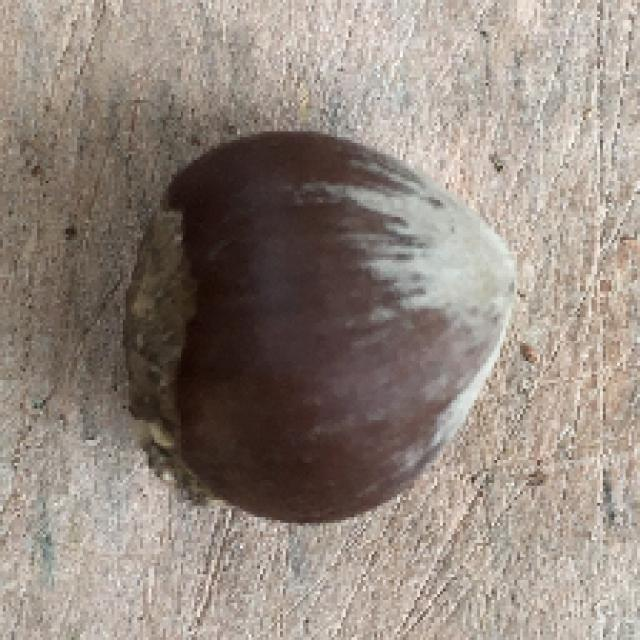damagedHazelnut: (124, 130, 523, 528)
